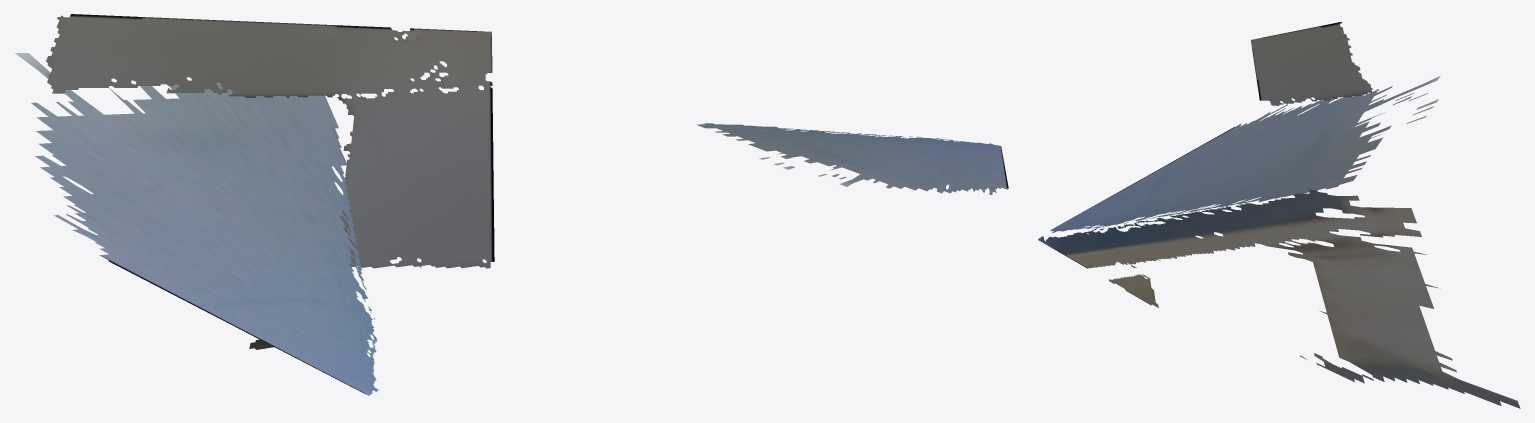
The model's file is 136_d2_depth_GTplane_gt_model.glb.
3 renders of one model, left to right at view 1: azimuth 30°, elevation 25°; view 2: azimuth 150°, elevation 25°; view 3: azimuth 270°, elevation 25°, orthographic. The views are drawn at different scales.
Bounding box in the file's own units: 2.61 × 2.04 × 3.2.
